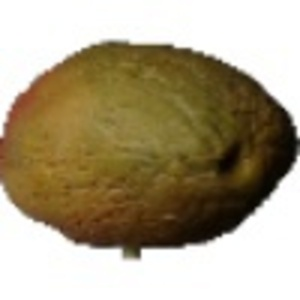mamão: (4, 33, 286, 251)
